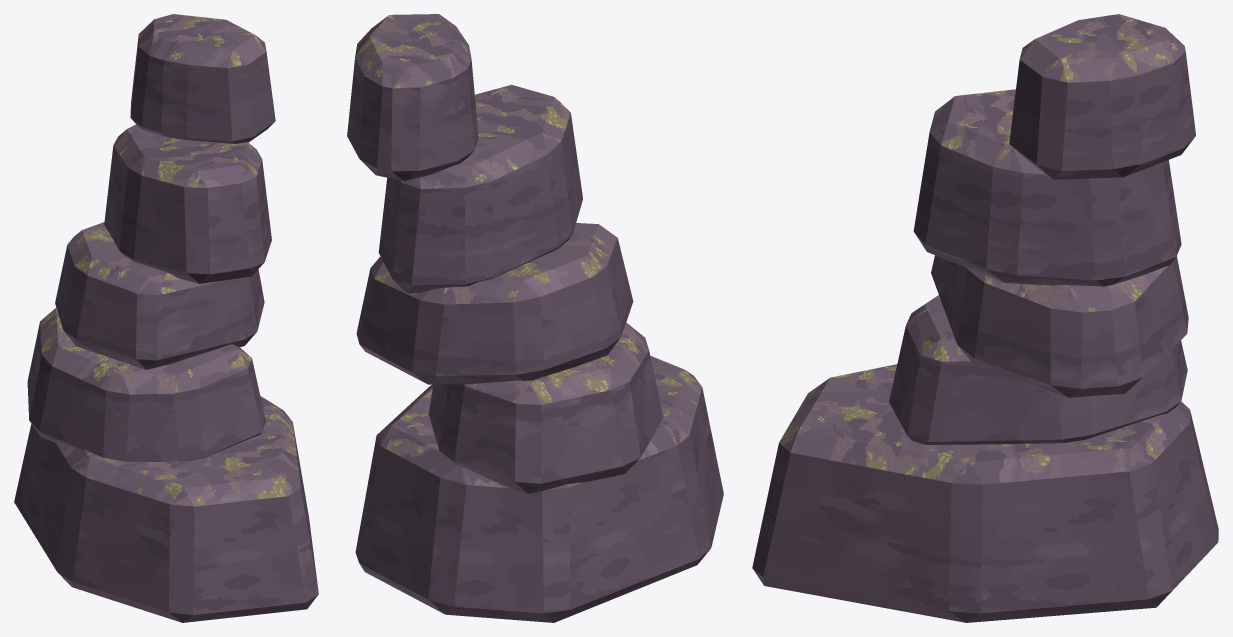
The model's file is P04_Cairn.fbx.
3 views of the same model, side by side, from view 1: azimuth 30°, elevation 25°; view 2: azimuth 150°, elevation 25°; view 3: azimuth 270°, elevation 25° (orthographic). The views are drawn at different scales.
Visible parts, largest first — view 1: P04_0, P04_1, P04_3, P04_2, P04_4; view 2: P04_0, P04_2, P04_3, P04_1, P04_4; view 3: P04_0, P04_3, P04_4, P04_2, P04_1.
Part boxes in pixels (bbox=[...]): P04_0: bbox=[14, 396, 318, 622]; P04_1: bbox=[27, 308, 265, 461]; P04_3: bbox=[104, 124, 271, 283]; P04_2: bbox=[55, 222, 264, 369]; P04_4: bbox=[130, 14, 275, 143]; P04_0: bbox=[355, 356, 723, 622]; P04_2: bbox=[356, 223, 633, 384]; P04_3: bbox=[378, 84, 582, 293]; P04_1: bbox=[428, 323, 663, 493]; P04_4: bbox=[347, 14, 478, 181]; P04_0: bbox=[752, 364, 1218, 622]; P04_3: bbox=[913, 89, 1181, 286]; P04_4: bbox=[1009, 14, 1195, 179]; P04_2: bbox=[931, 255, 1188, 397]; P04_1: bbox=[889, 295, 1187, 444].
Size of the model in its own units: 0.3188 by 0.5595 by 0.4159.
